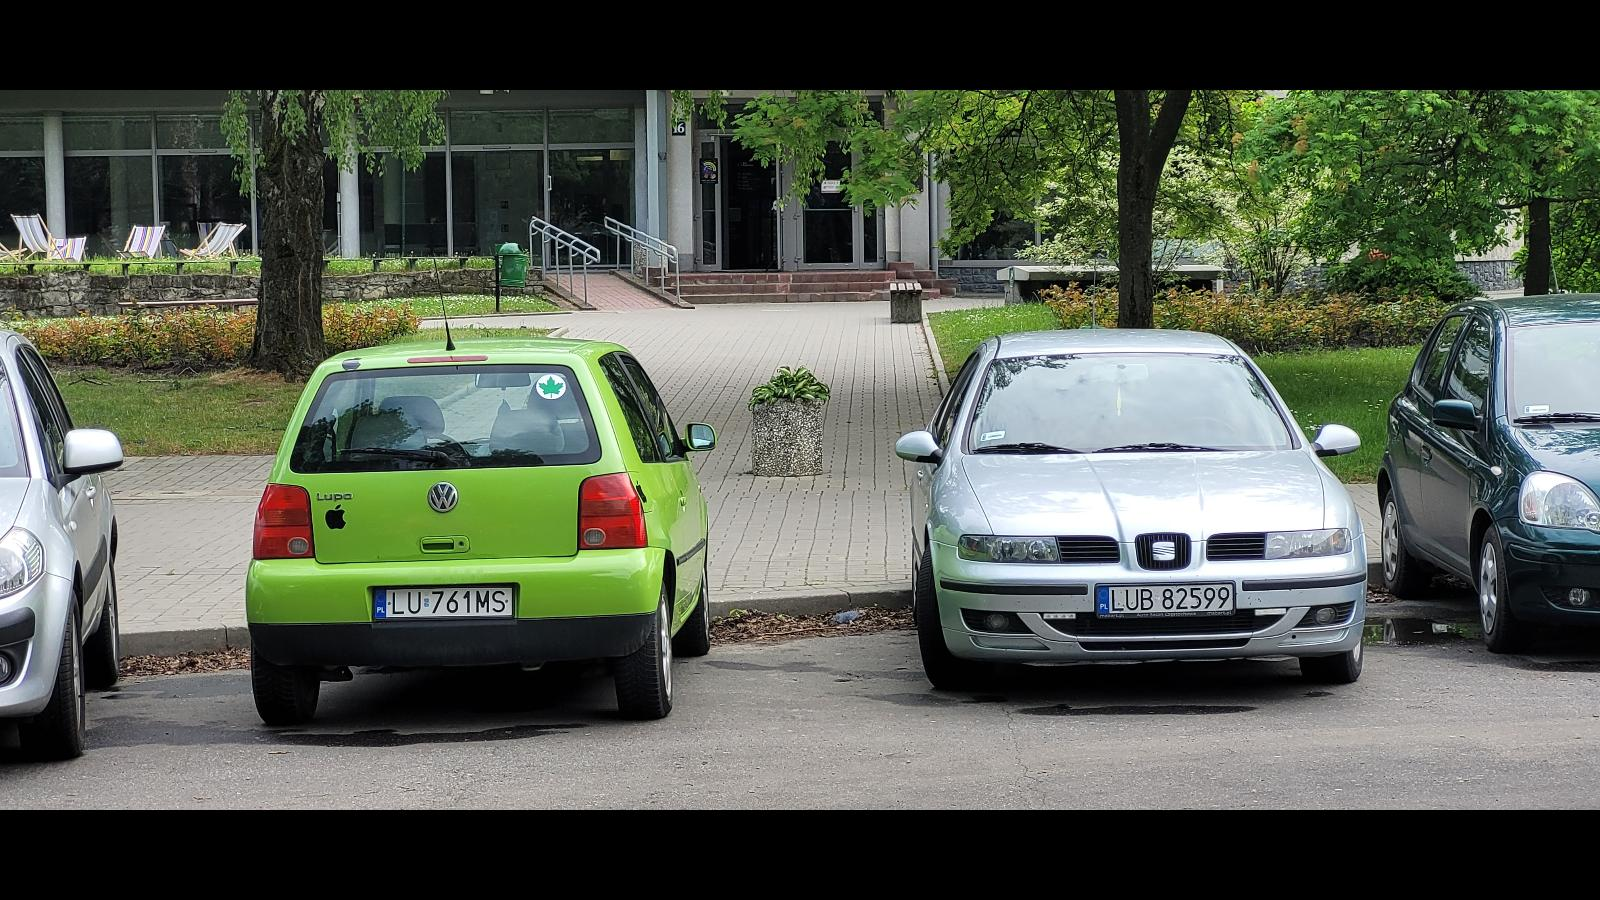plates: (1095, 582, 1235, 618), (373, 586, 515, 620)
